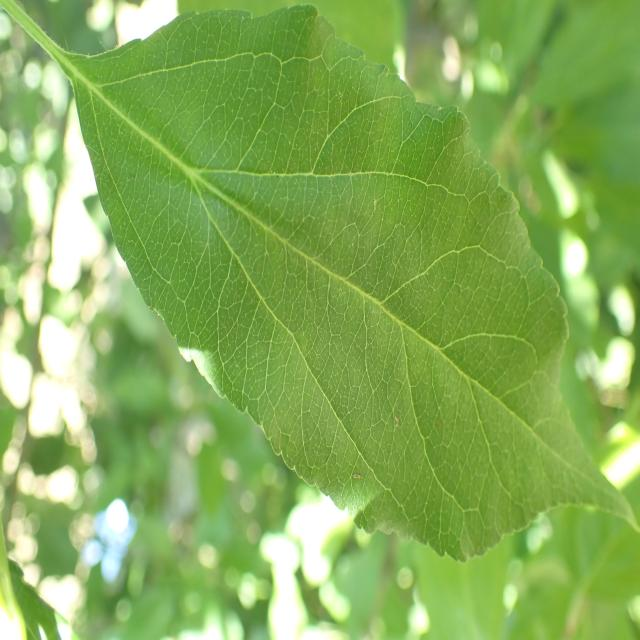healthy: (8, 2, 637, 560)
